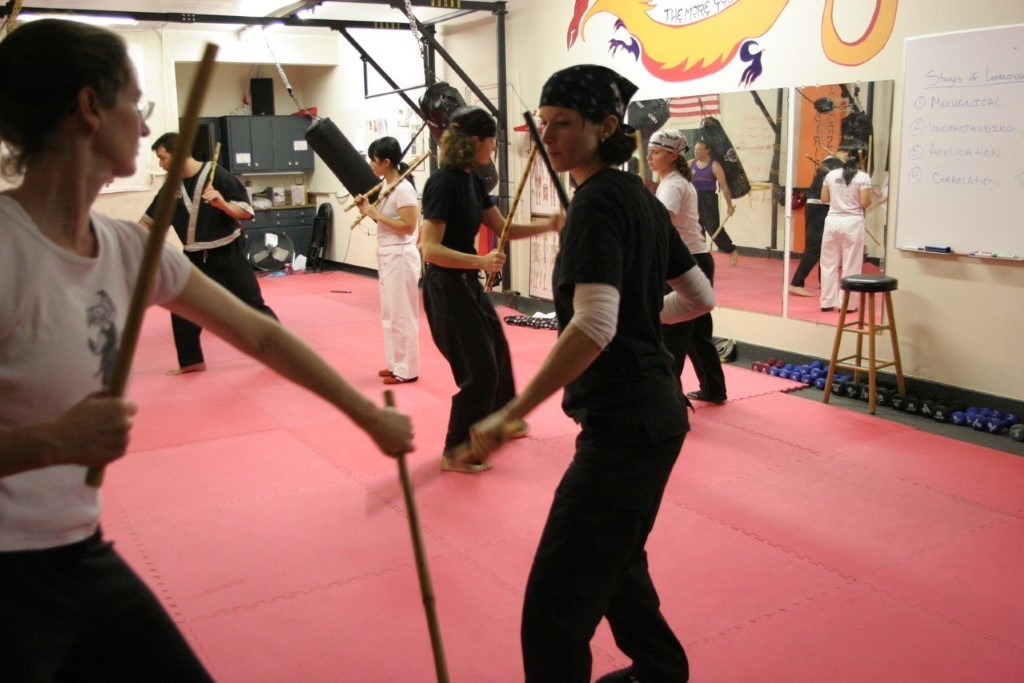baston_e: (82, 55, 220, 468), (384, 399, 454, 673), (488, 144, 536, 287), (354, 150, 427, 227), (524, 116, 567, 205), (348, 156, 416, 211), (711, 206, 734, 239), (635, 134, 647, 185), (206, 145, 218, 184), (806, 157, 828, 171), (864, 225, 878, 243), (866, 137, 872, 173)
baston_v: (80, 471, 109, 492), (513, 414, 531, 432), (203, 39, 221, 56), (379, 383, 397, 399), (480, 283, 493, 296), (521, 108, 532, 118), (635, 128, 643, 136), (215, 139, 223, 147), (348, 224, 355, 231), (803, 152, 811, 158), (857, 148, 863, 155), (342, 206, 349, 212), (427, 148, 433, 155), (867, 133, 873, 139), (732, 203, 737, 208), (877, 241, 881, 246)
